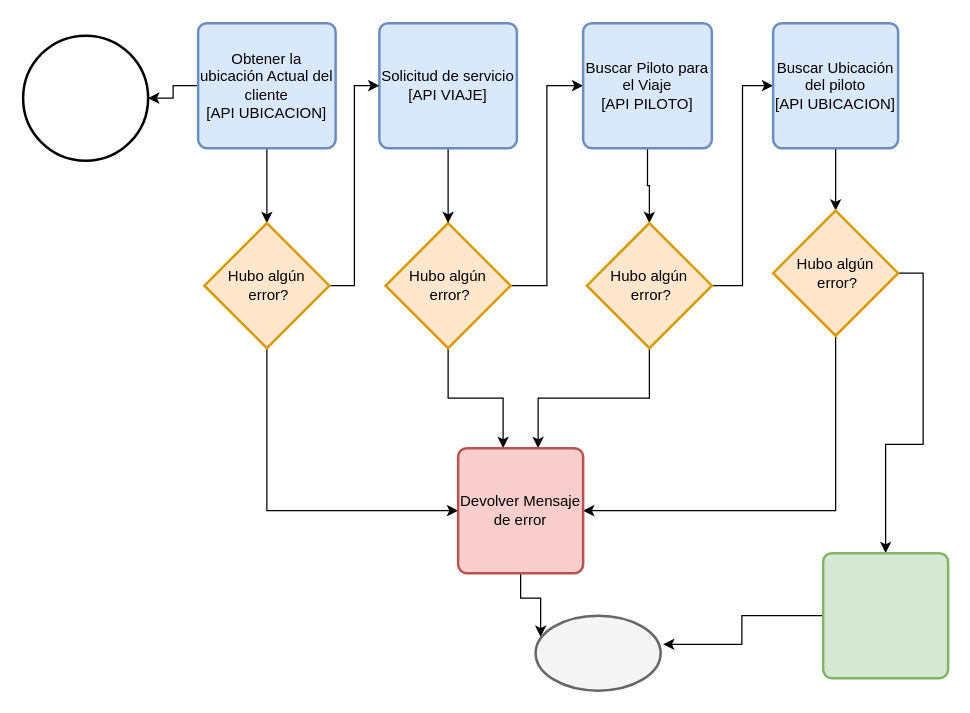
Some shapes in this 970 by 713 pixel diagram are drawn without their labels. Each missing label, with the box of its shape:
API RECIBE UN REQUEST: (21, 34, 149, 161)
Devolver información del piloto: (821, 551, 949, 679)
FIN DEL PROCESO: (534, 614, 661, 691)
